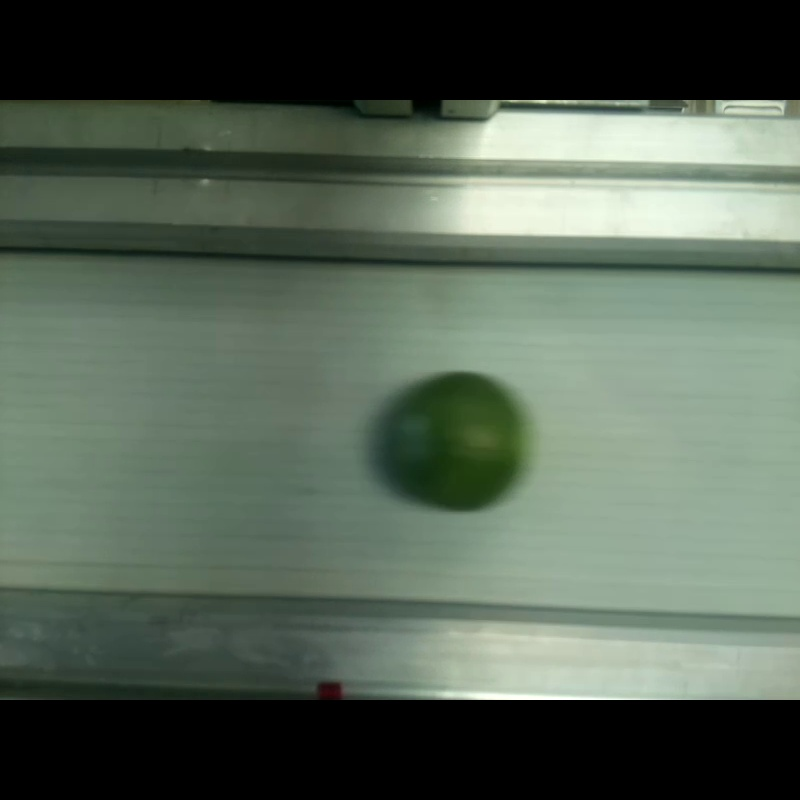lime: (396, 371, 520, 513)
